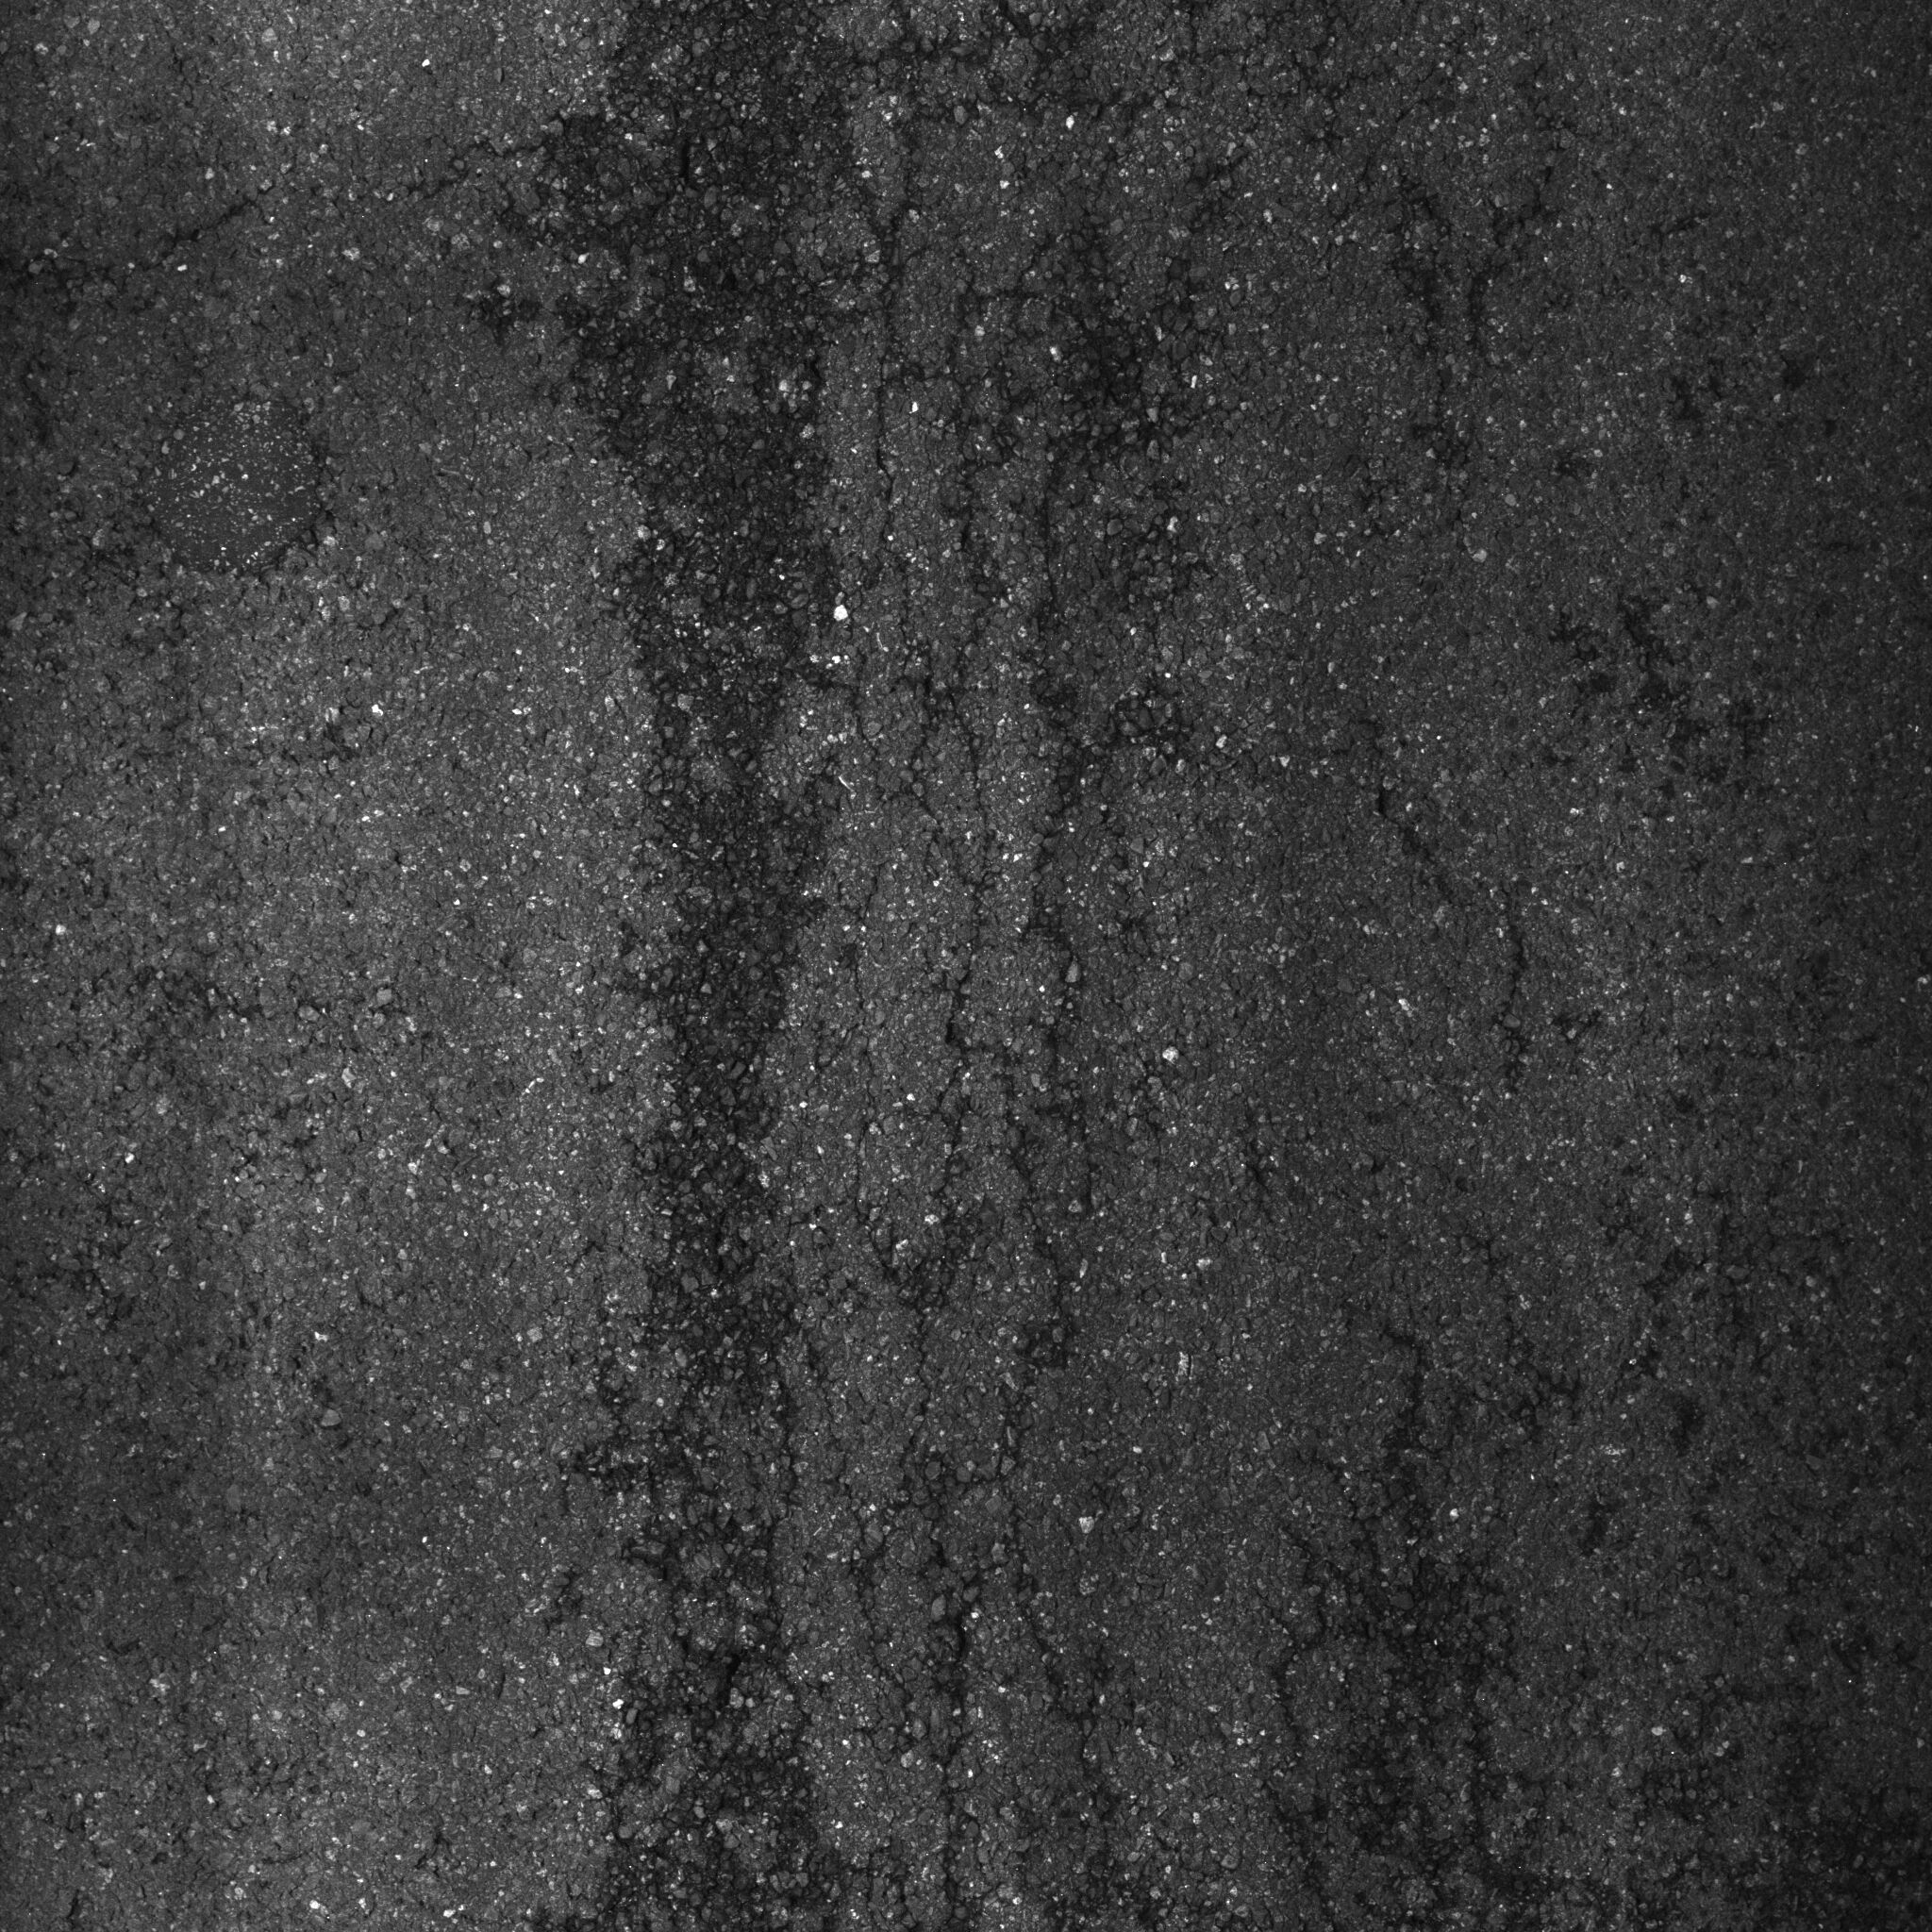alligator: (372, 2, 1732, 1932)
